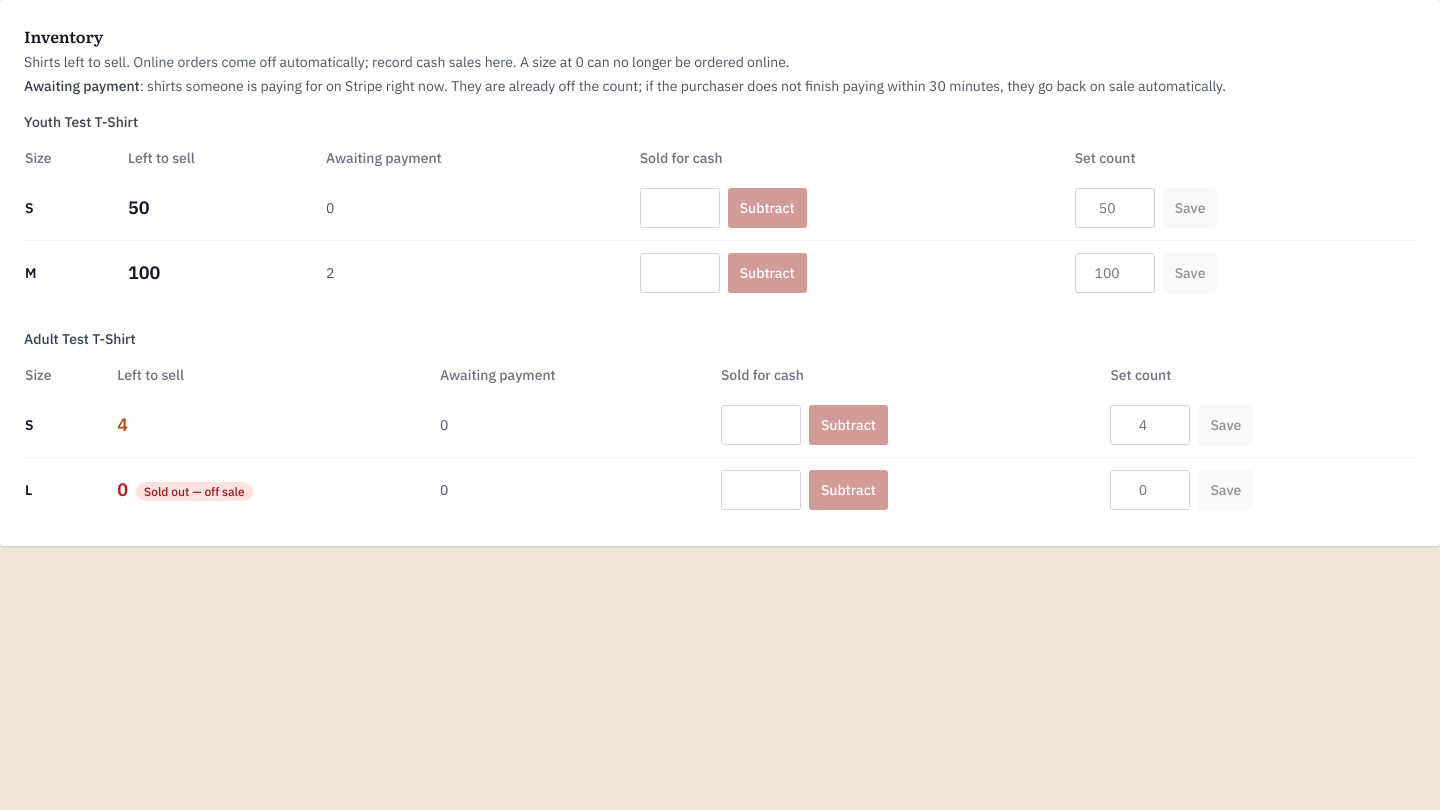
Test: MerchInventoryPanel › subtracts a cash sale from the count it was looking at
This screenshot has width=1440, height=810.
Type "6" into the number field named "Shirts sold for cash, Youth Test T-Shirt size M". click: (680, 273)
box: [640,253,720,293]
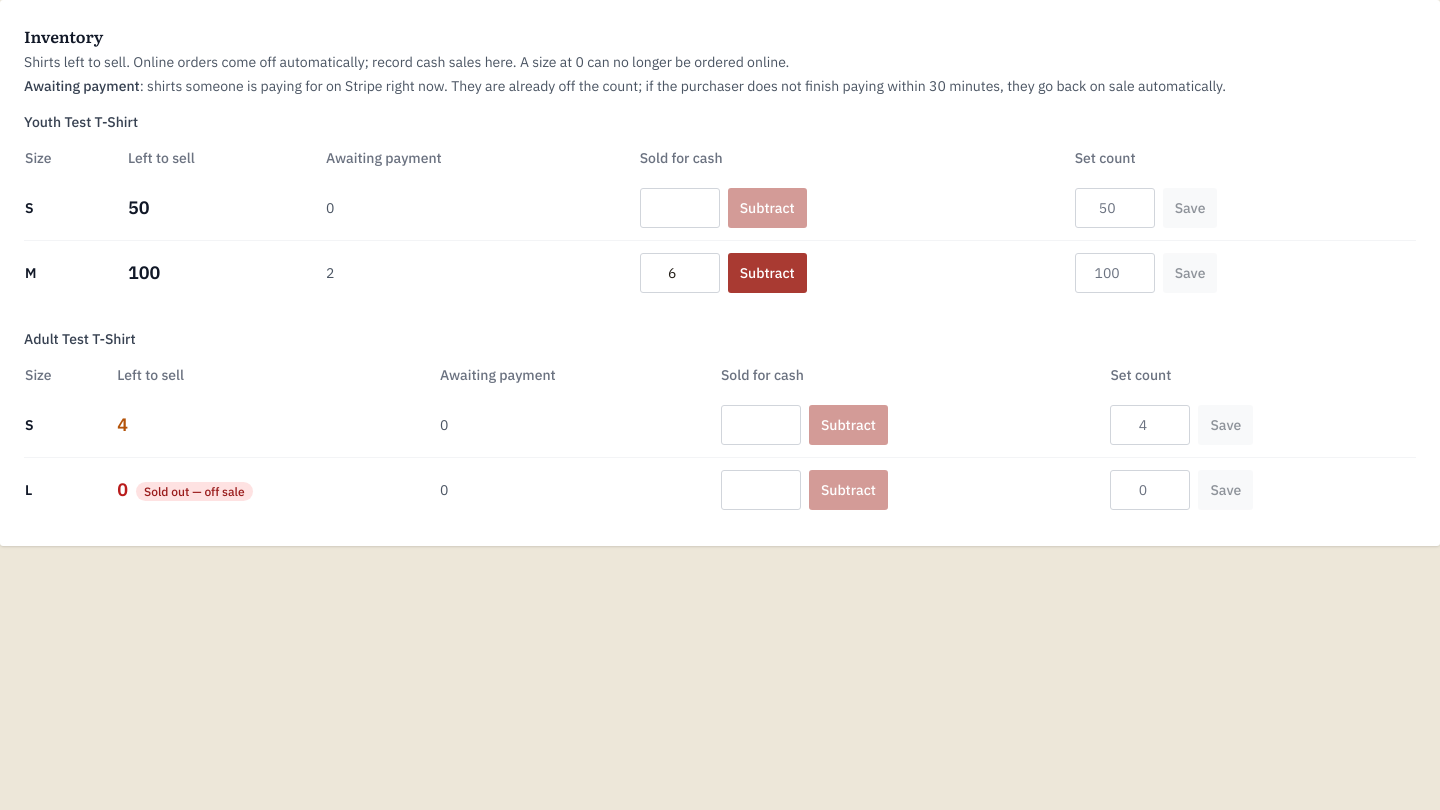
Click the button "Subtract" in the row of "100". click: (767, 273)
box: [728,253,807,293]
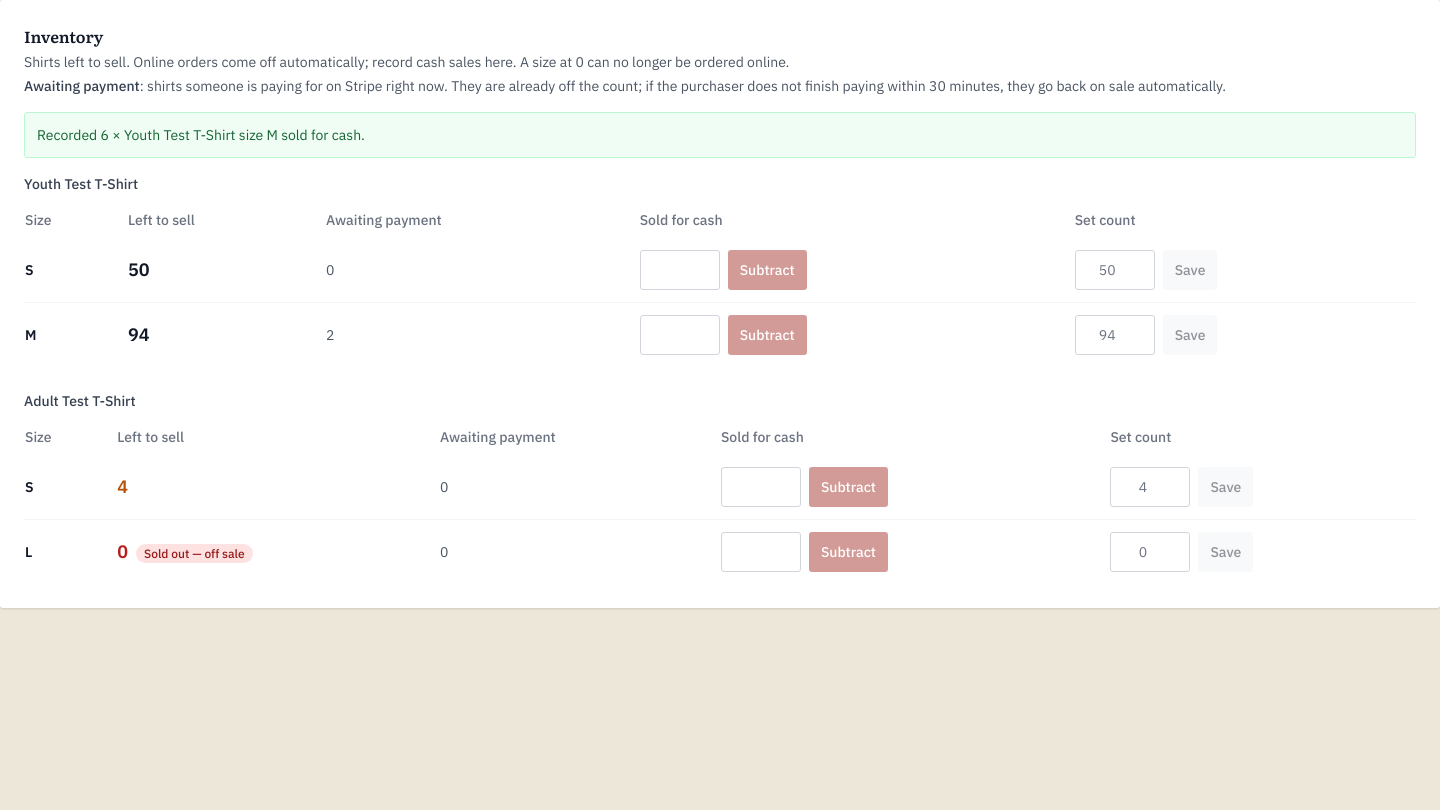
Result: the message shows "Recorded 6" at [37,126,365,144]
